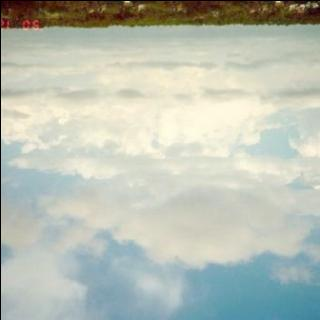Stratus: (0, 29, 320, 320)
